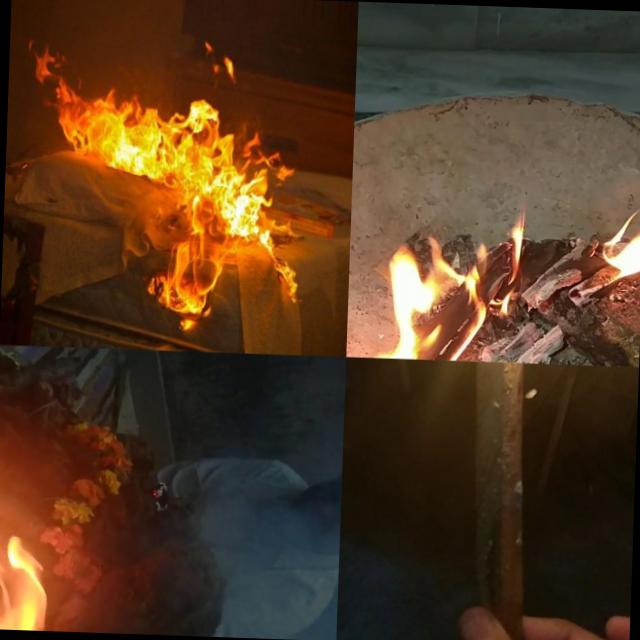fire: (18, 39, 290, 329), (366, 208, 534, 363), (579, 196, 640, 298)
